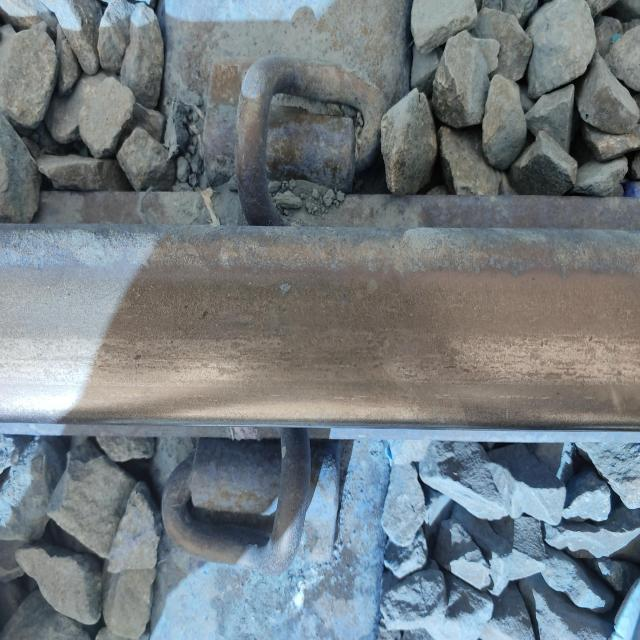Good Fasteners: (162, 39, 472, 251), (136, 427, 368, 609)
